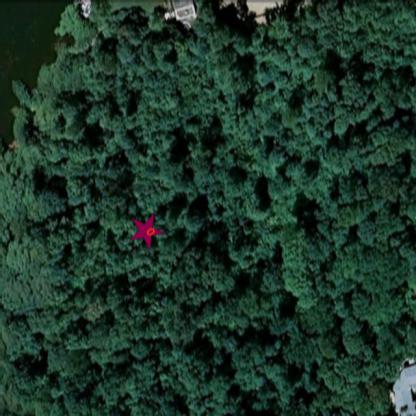0: (144, 226, 157, 238)
star: (128, 212, 164, 250)
